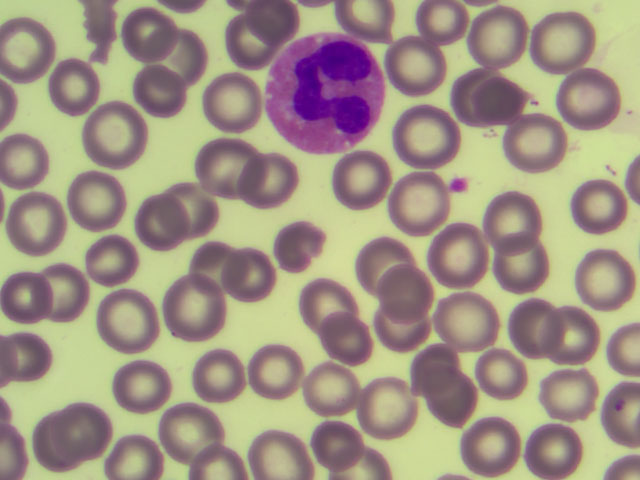Platelets: (447, 171, 474, 195)
RBC: (254, 412, 312, 480), (303, 412, 361, 480), (476, 412, 534, 480), (43, 53, 101, 120), (81, 102, 139, 169), (134, 66, 192, 133), (146, 30, 204, 97), (135, 13, 193, 80), (201, 70, 259, 137), (200, 131, 258, 198), (241, 153, 299, 220), (169, 164, 227, 231), (136, 190, 194, 257), (68, 168, 126, 235), (21, 187, 79, 254), (86, 226, 144, 293), (40, 254, 98, 321), (2, 264, 60, 331), (1, 340, 59, 407), (56, 400, 114, 467), (30, 403, 88, 470), (112, 357, 170, 424), (100, 285, 158, 352), (160, 277, 218, 344), (181, 235, 239, 302), (226, 236, 284, 303), (284, 212, 342, 279), (297, 269, 355, 336), (324, 311, 382, 378), (240, 337, 298, 404), (195, 344, 253, 411), (165, 404, 223, 471), (360, 370, 418, 437), (315, 366, 373, 433), (378, 255, 436, 322), (356, 237, 414, 304), (372, 293, 430, 360), (413, 353, 471, 420), (429, 379, 487, 446), (531, 412, 589, 479), (546, 355, 604, 422), (543, 296, 601, 363), (502, 294, 560, 361), (428, 283, 486, 350), (424, 221, 482, 288), (483, 194, 541, 261), (505, 233, 563, 300), (387, 172, 445, 239), (354, 152, 412, 219), (398, 108, 456, 175), (468, 68, 526, 135), (396, 40, 454, 107), (468, 6, 526, 73), (524, 8, 582, 75), (560, 58, 618, 125), (508, 114, 566, 181), (566, 173, 624, 240), (575, 237, 633, 304)
WBC: (264, 37, 389, 155)
